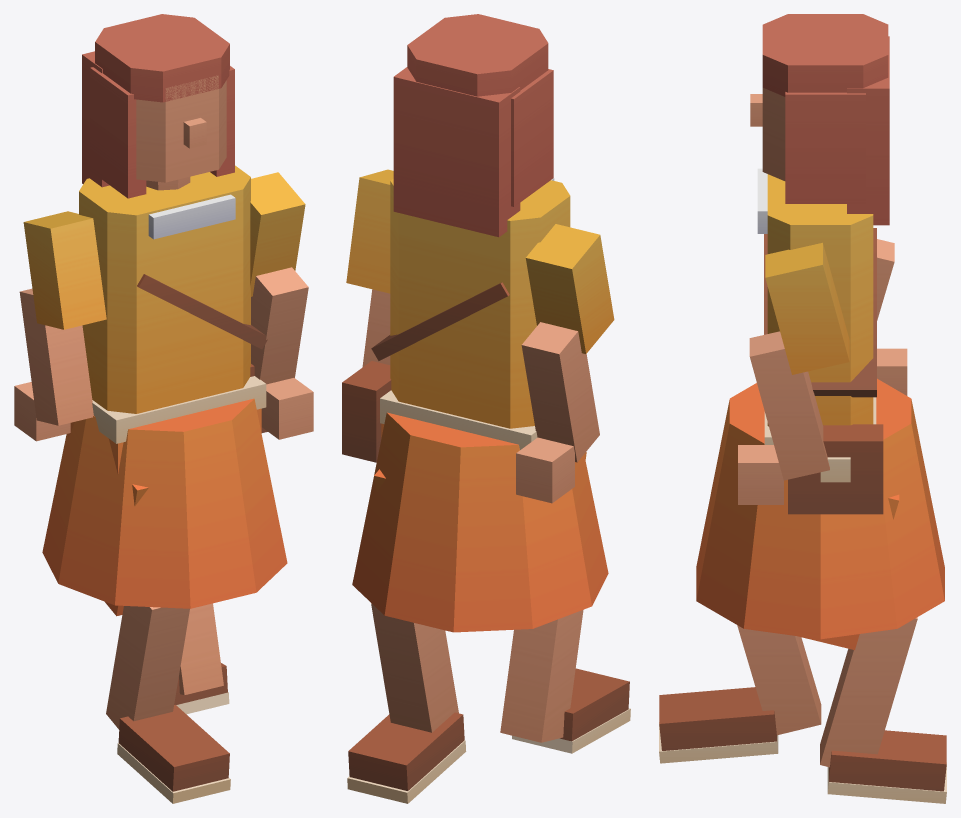
Rendered from citizen_dress_f.glb.
3 views of the same model, side by side, from view 1: azimuth 30°, elevation 25°; view 2: azimuth 150°, elevation 25°; view 3: azimuth 270°, elevation 25° (orthographic). The views are drawn at different scales.
Parts seen in each view (by area): view 1: citizen_dress_f; view 2: citizen_dress_f; view 3: citizen_dress_f.
Boxes of the visible parts, bbox=[...] form: citizen_dress_f: bbox=[14, 14, 313, 803]; citizen_dress_f: bbox=[342, 14, 630, 803]; citizen_dress_f: bbox=[659, 14, 946, 803].
Size of the model in its own units: 0.558 by 1.6 by 0.5728.
1 material, 1 textured.
